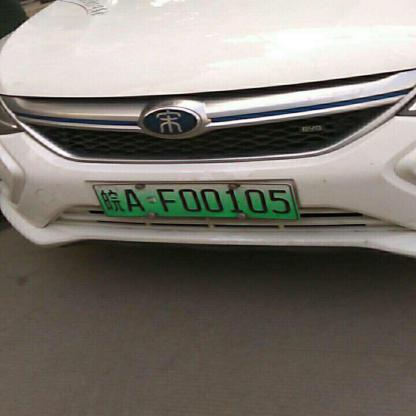lp: (94, 184, 298, 218)
